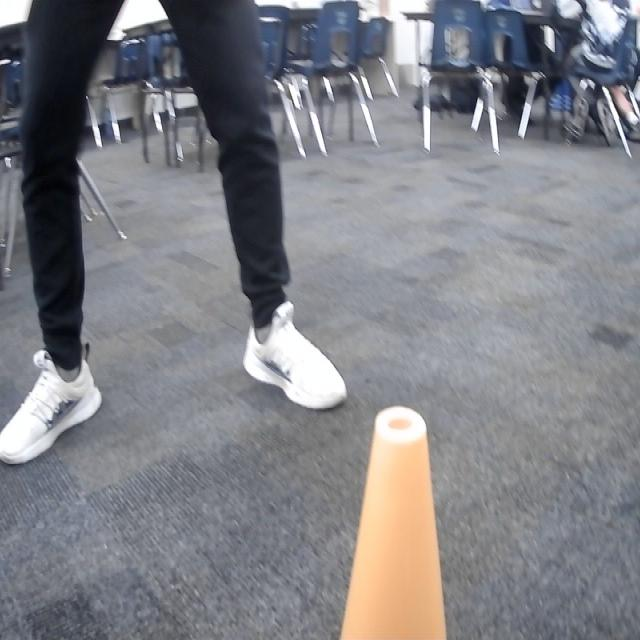cone: (339, 404, 446, 640)
